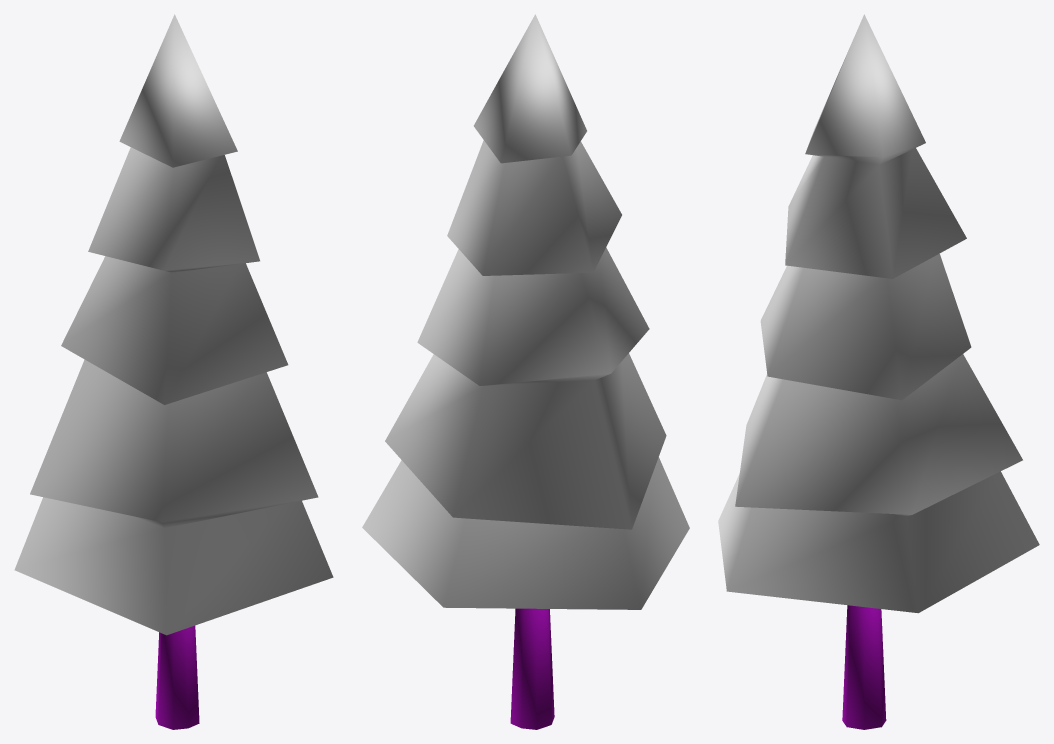
File: spruce_v2.fbx
3 renders of one model, left to right at view 1: azimuth 30°, elevation 25°; view 2: azimuth 150°, elevation 25°; view 3: azimuth 270°, elevation 25°, orthographic.
Visible parts, largest first — view 1: spruce_LOD0; view 2: spruce_LOD0; view 3: spruce_LOD0.
Boxes of the visible parts, bbox=[...] form: spruce_LOD0: bbox=[14, 14, 333, 729]; spruce_LOD0: bbox=[362, 14, 689, 729]; spruce_LOD0: bbox=[718, 14, 1039, 729].
Size of what is drawn, in the model's own units: 800 by 1935 by 800.
